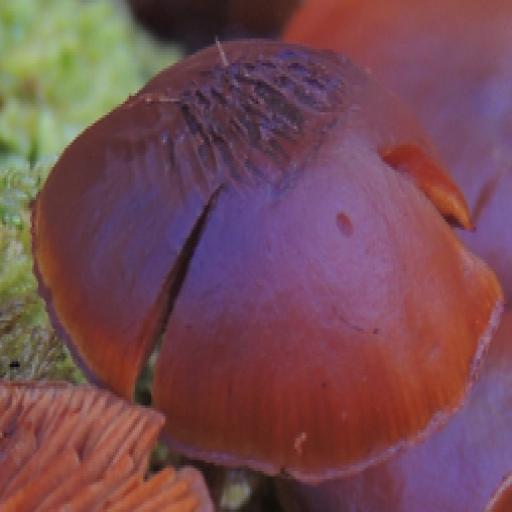mushroom: (28, 23, 508, 474)
